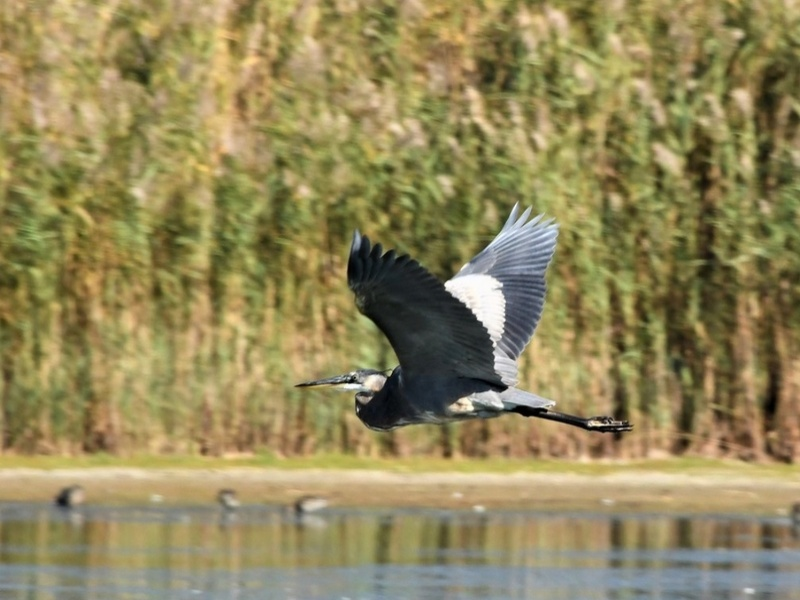heron: (283, 192, 633, 439)
